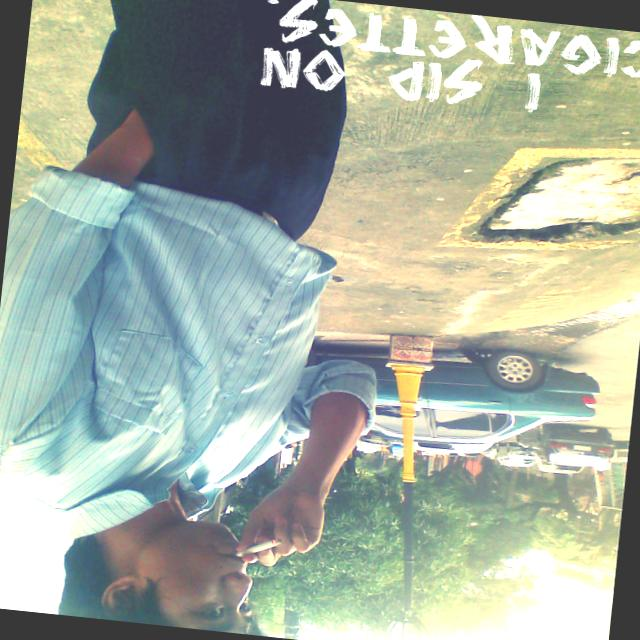smoke: (231, 531, 293, 568)
